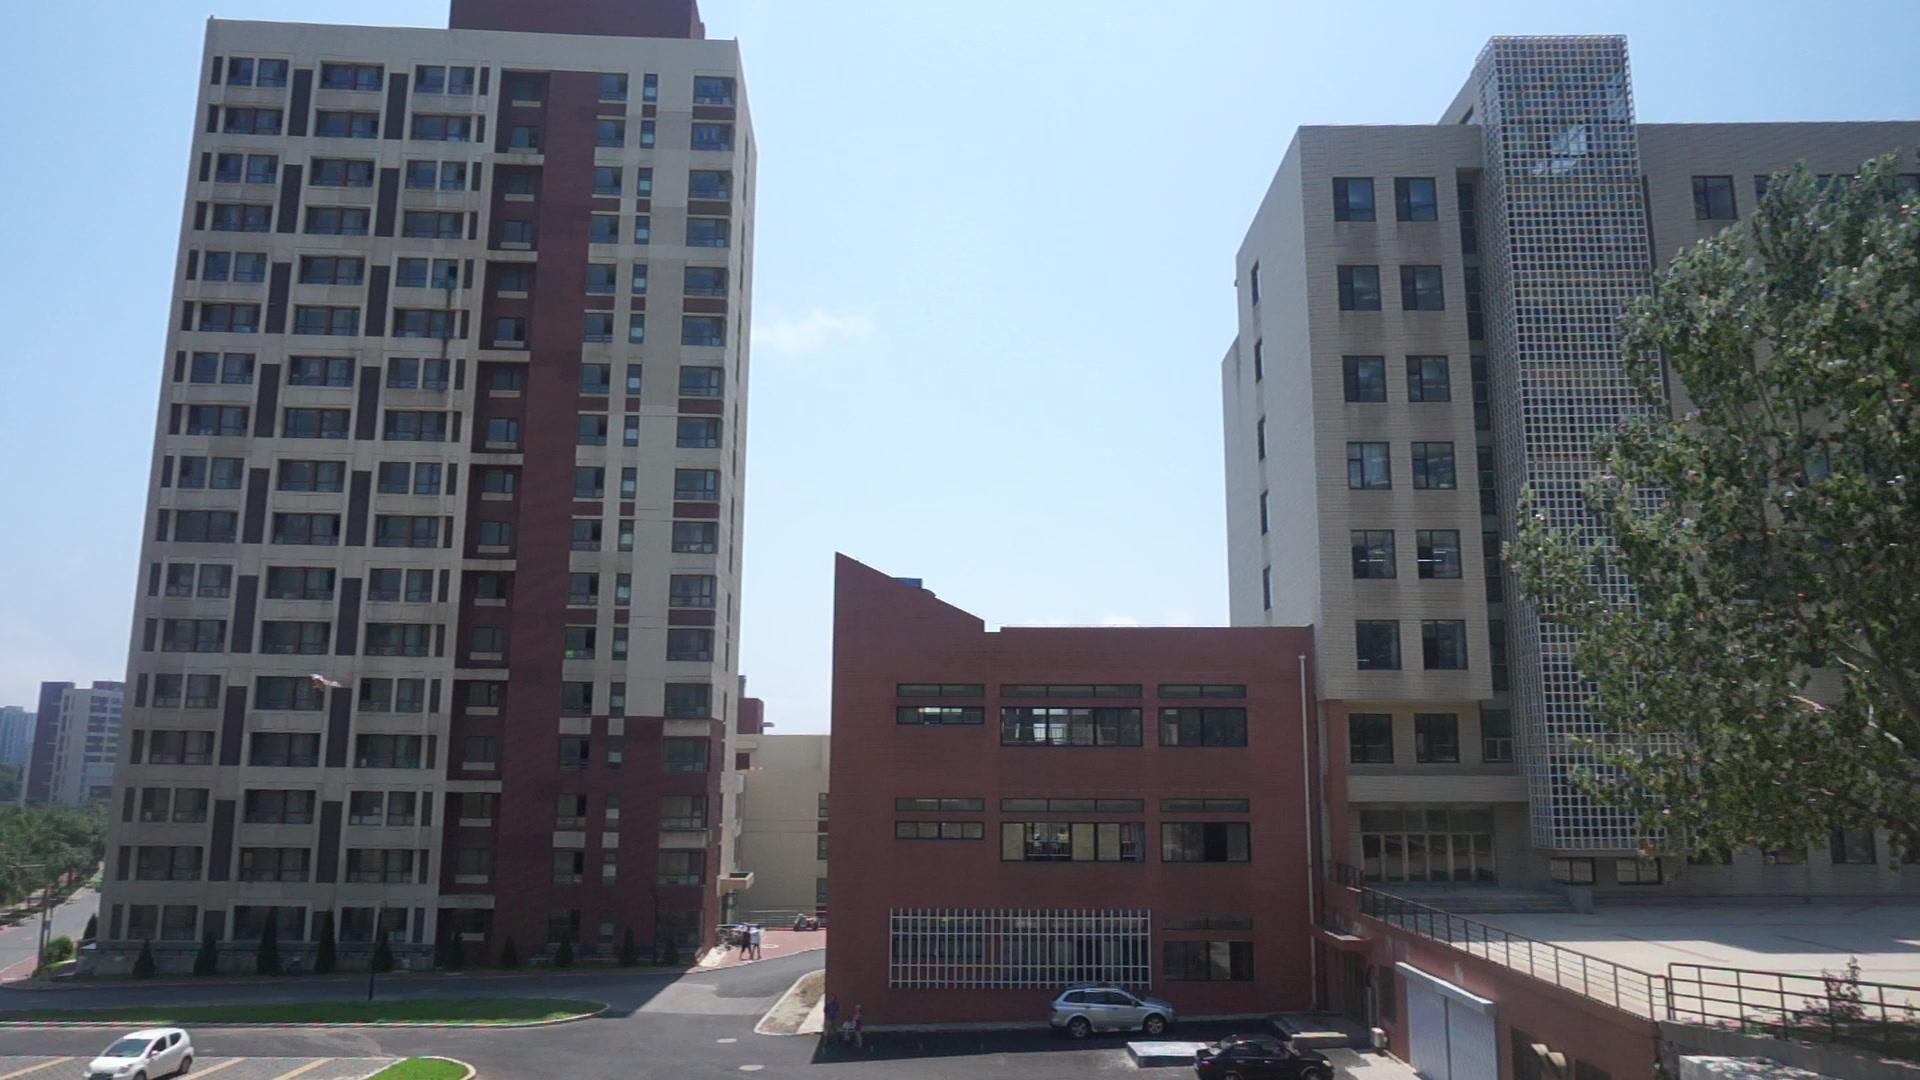UAV: (311, 674, 345, 691)
